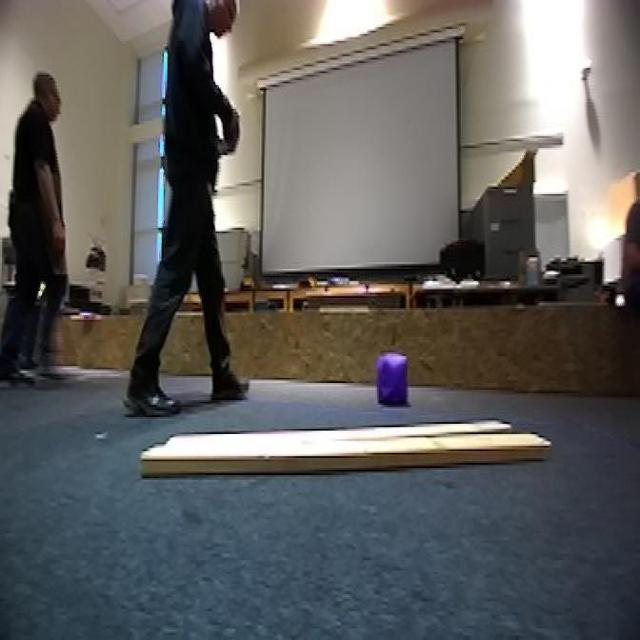frc_cube: (374, 356, 412, 407)
